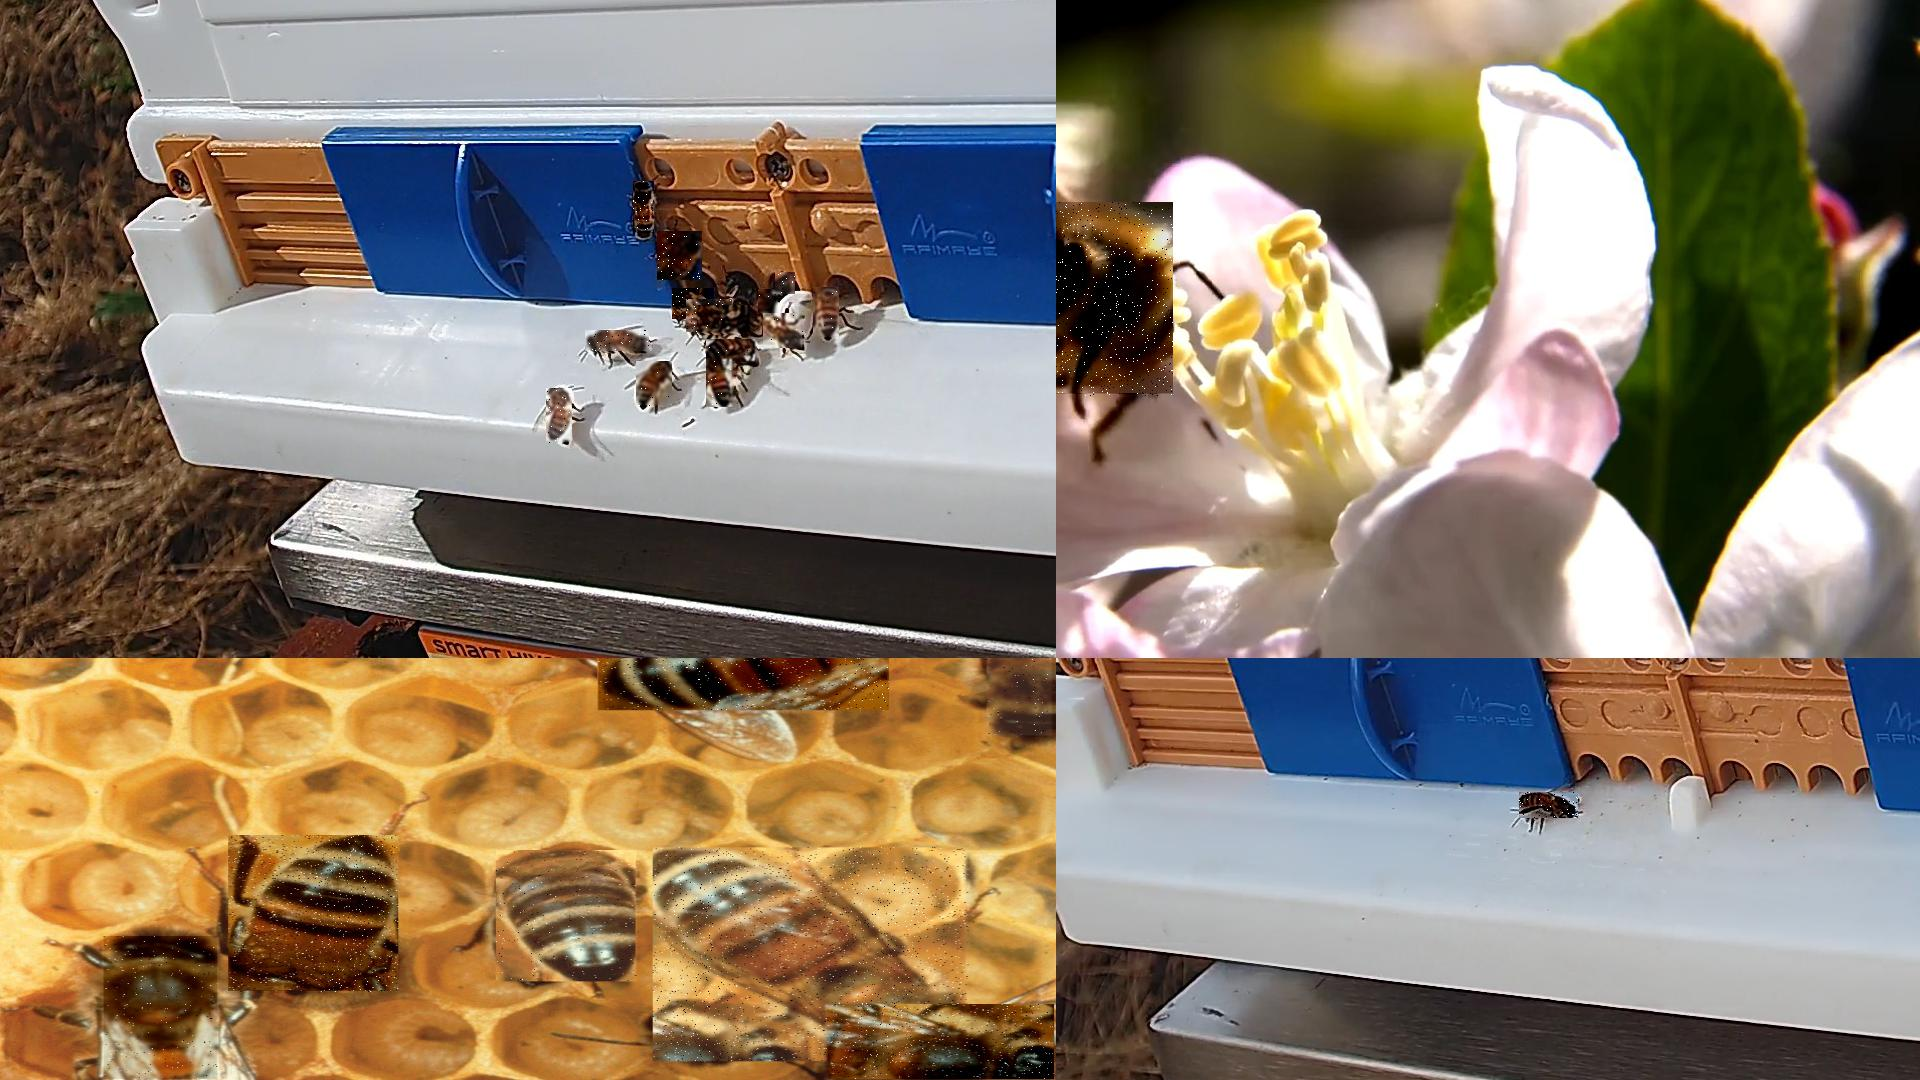bee: (654, 847, 971, 1062), (228, 835, 400, 993), (1056, 203, 1175, 398), (497, 849, 641, 982), (828, 1004, 1055, 1079), (104, 936, 219, 1079), (599, 658, 890, 711), (988, 658, 1056, 736), (657, 231, 703, 281), (698, 306, 754, 336), (637, 361, 674, 407), (686, 299, 733, 334), (1519, 793, 1580, 819), (546, 389, 574, 444), (585, 331, 651, 353), (764, 314, 804, 349), (707, 363, 737, 409), (673, 287, 715, 320), (814, 287, 840, 340), (707, 340, 760, 365), (633, 182, 655, 237), (758, 289, 781, 314), (775, 272, 796, 295)
